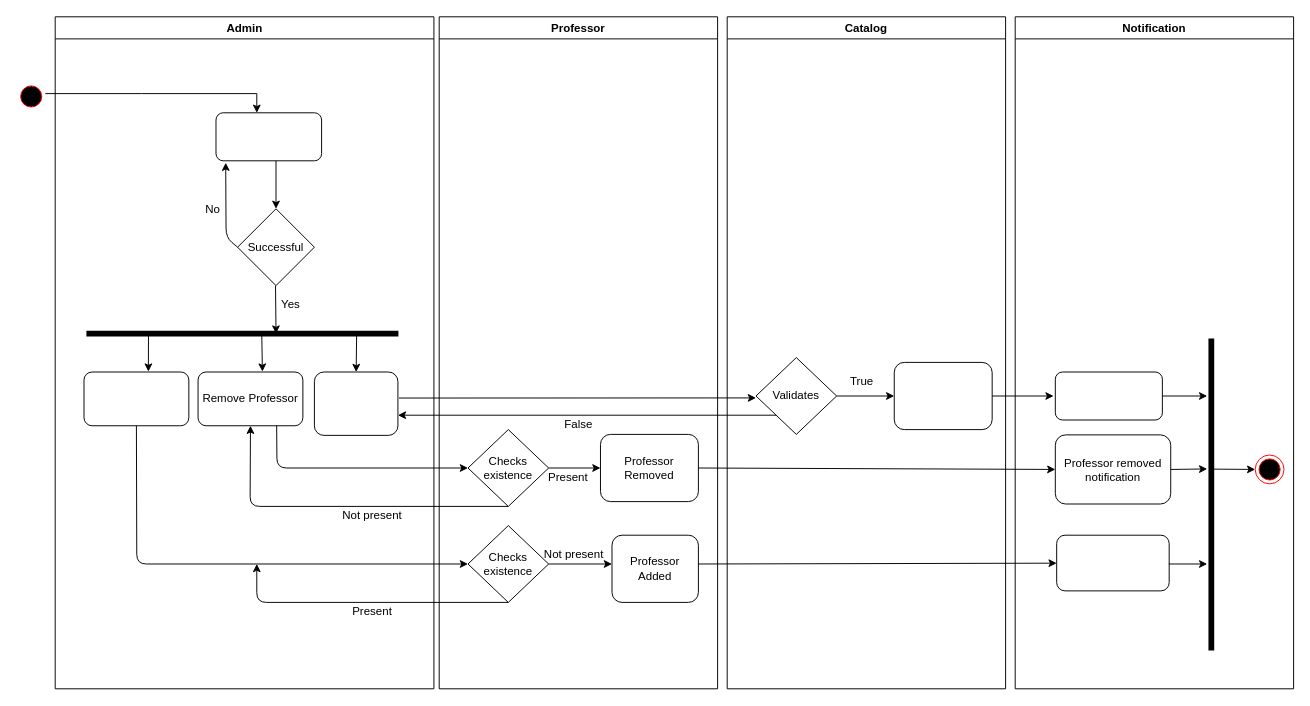
Some shapes in this 1310 by 706 pixel diagram are drawn without their labels. Here are the shapes that lost their labels. From the top down, the centre of each, then its label:
At [268,136]: "Login".
At [136,398]: "Add Professor".
At [355,403]: "Add a new Course to the catalog".
At [942,395]: "New Course added in the catalog".
At [1108,395]: "Course added notification".
At [1112,562]: "New professor notitication".
